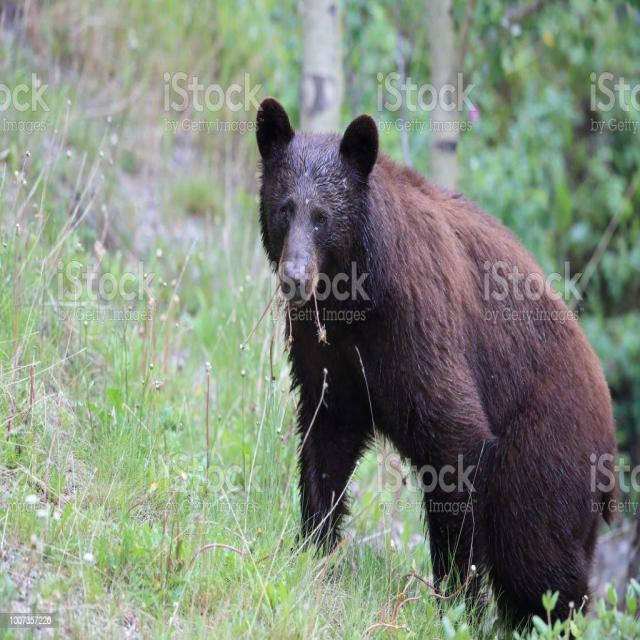Bear: (254, 99, 618, 634)
